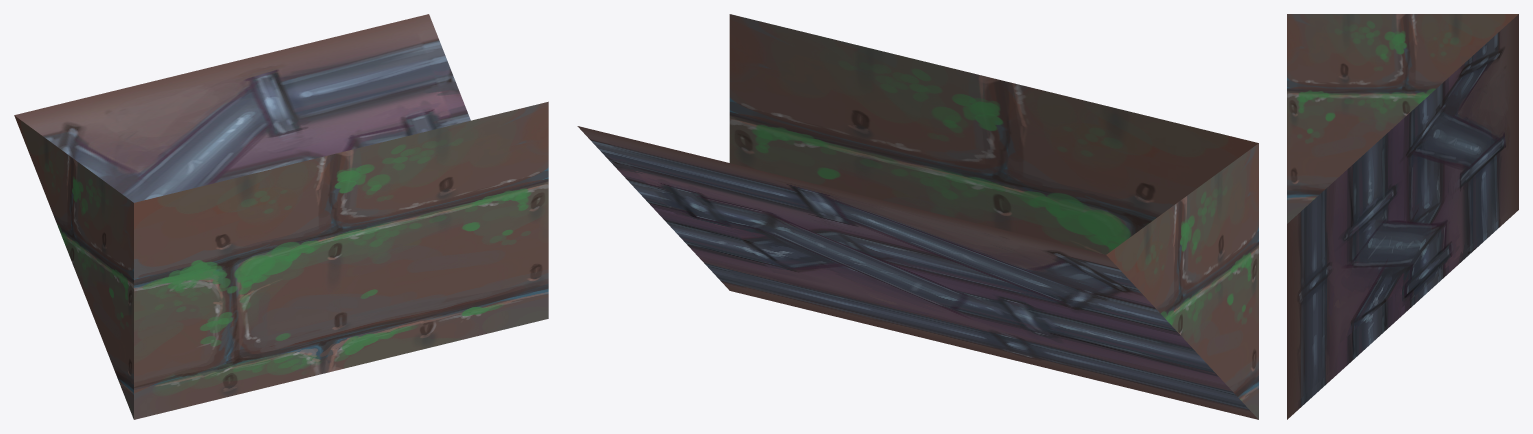
The model's file is SlopeCeilingRight1x2.FBX.
3 renders of one model, left to right at view 1: azimuth 30°, elevation 25°; view 2: azimuth 150°, elevation 25°; view 3: azimuth 270°, elevation 25°, orthographic. The views are drawn at different scales.
Visible parts, largest first — view 1: Box035; view 2: Box035; view 3: Box035.
Part boxes in pixels (x1,y1,x2,y2): Box035: (14,14,548,419); Box035: (577,14,1258,419); Box035: (1287,14,1518,419).
Size of the model in its own units: 128 by 64 by 64.
2 materials, 2 textured.
